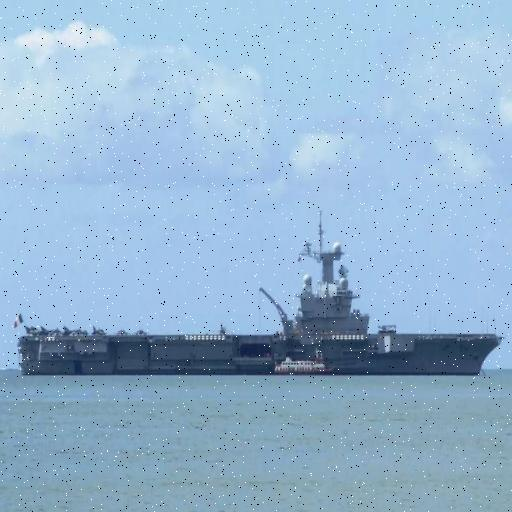Portanaves: (12, 206, 507, 379)
